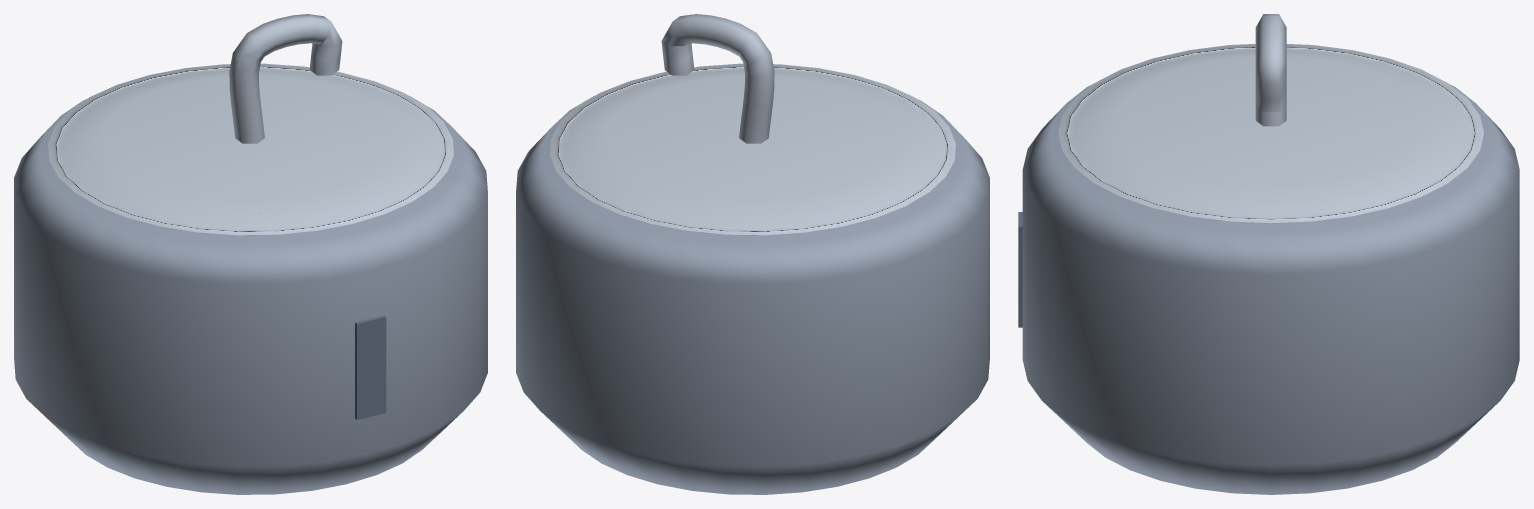
The model's file is pet-fountain-lite.glb.
3 views of the same model, side by side, from view 1: azimuth 30°, elevation 25°; view 2: azimuth 150°, elevation 25°; view 3: azimuth 270°, elevation 25° (orthographic). The views are drawn at different scales.
Visible parts, largest first — view 1: body, light, soft, dark; view 2: body, light, soft; view 3: body, light, soft, dark.
Boxes of the visible parts, x1,y1,x2,y2 form: body: (14, 96, 487, 494); light: (48, 63, 453, 235); soft: (229, 14, 342, 143); dark: (355, 315, 386, 419); body: (516, 96, 989, 494); light: (550, 63, 955, 235); soft: (661, 14, 774, 143); body: (1022, 84, 1519, 494); light: (1058, 44, 1483, 223); soft: (1255, 14, 1286, 126); dark: (1018, 212, 1022, 327).
Size of the model in its own units: 0.224 by 0.2008 by 0.226.
